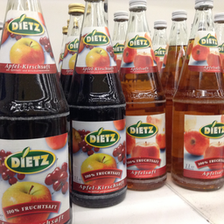juice: (1, 1, 70, 223), (70, 1, 127, 208), (173, 1, 224, 192), (117, 1, 166, 191)
